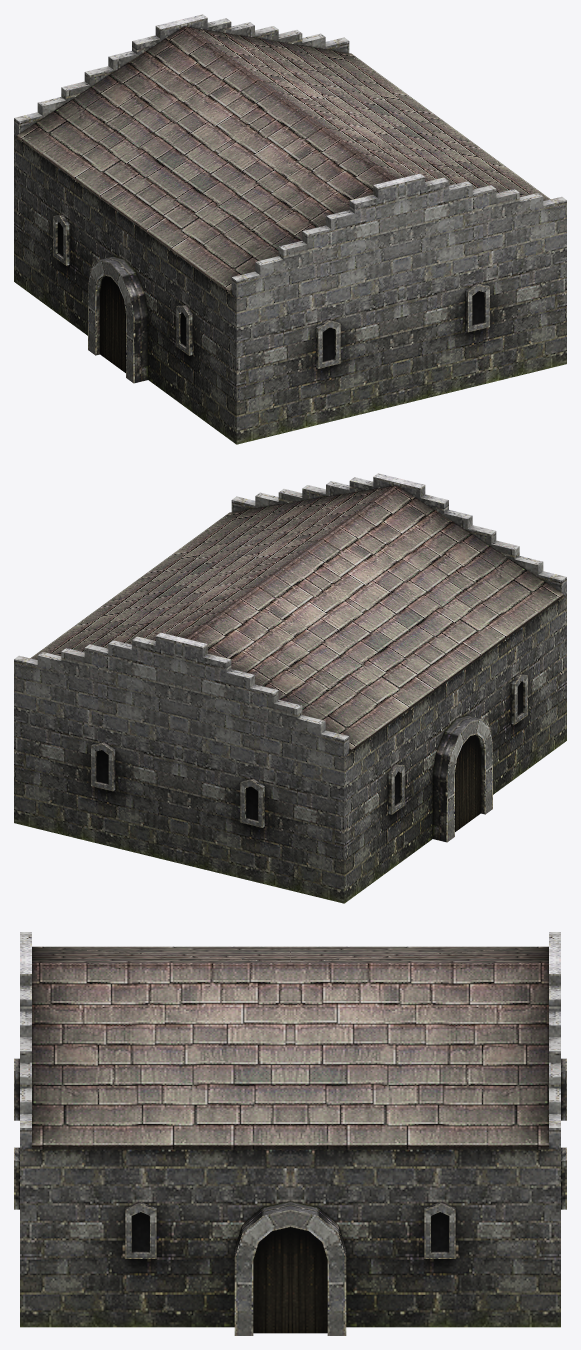
Rendered from CastleHouse01.FBX.
3 views of the same model, one above another, from view 1: azimuth 30°, elevation 25°; view 2: azimuth 150°, elevation 25°; view 3: azimuth 270°, elevation 25° (orthographic). The views are drawn at different scales.
Parts seen in each view (by area): view 1: CastleHouse01; view 2: CastleHouse01; view 3: CastleHouse01.
Part boxes in pixels (box(x1,y1,x2,y2)): CastleHouse01: box(14, 14, 566, 444); CastleHouse01: box(14, 473, 566, 903); CastleHouse01: box(14, 932, 566, 1335).
Bounding box in the file's own units: 1165 × 686 × 1278.
